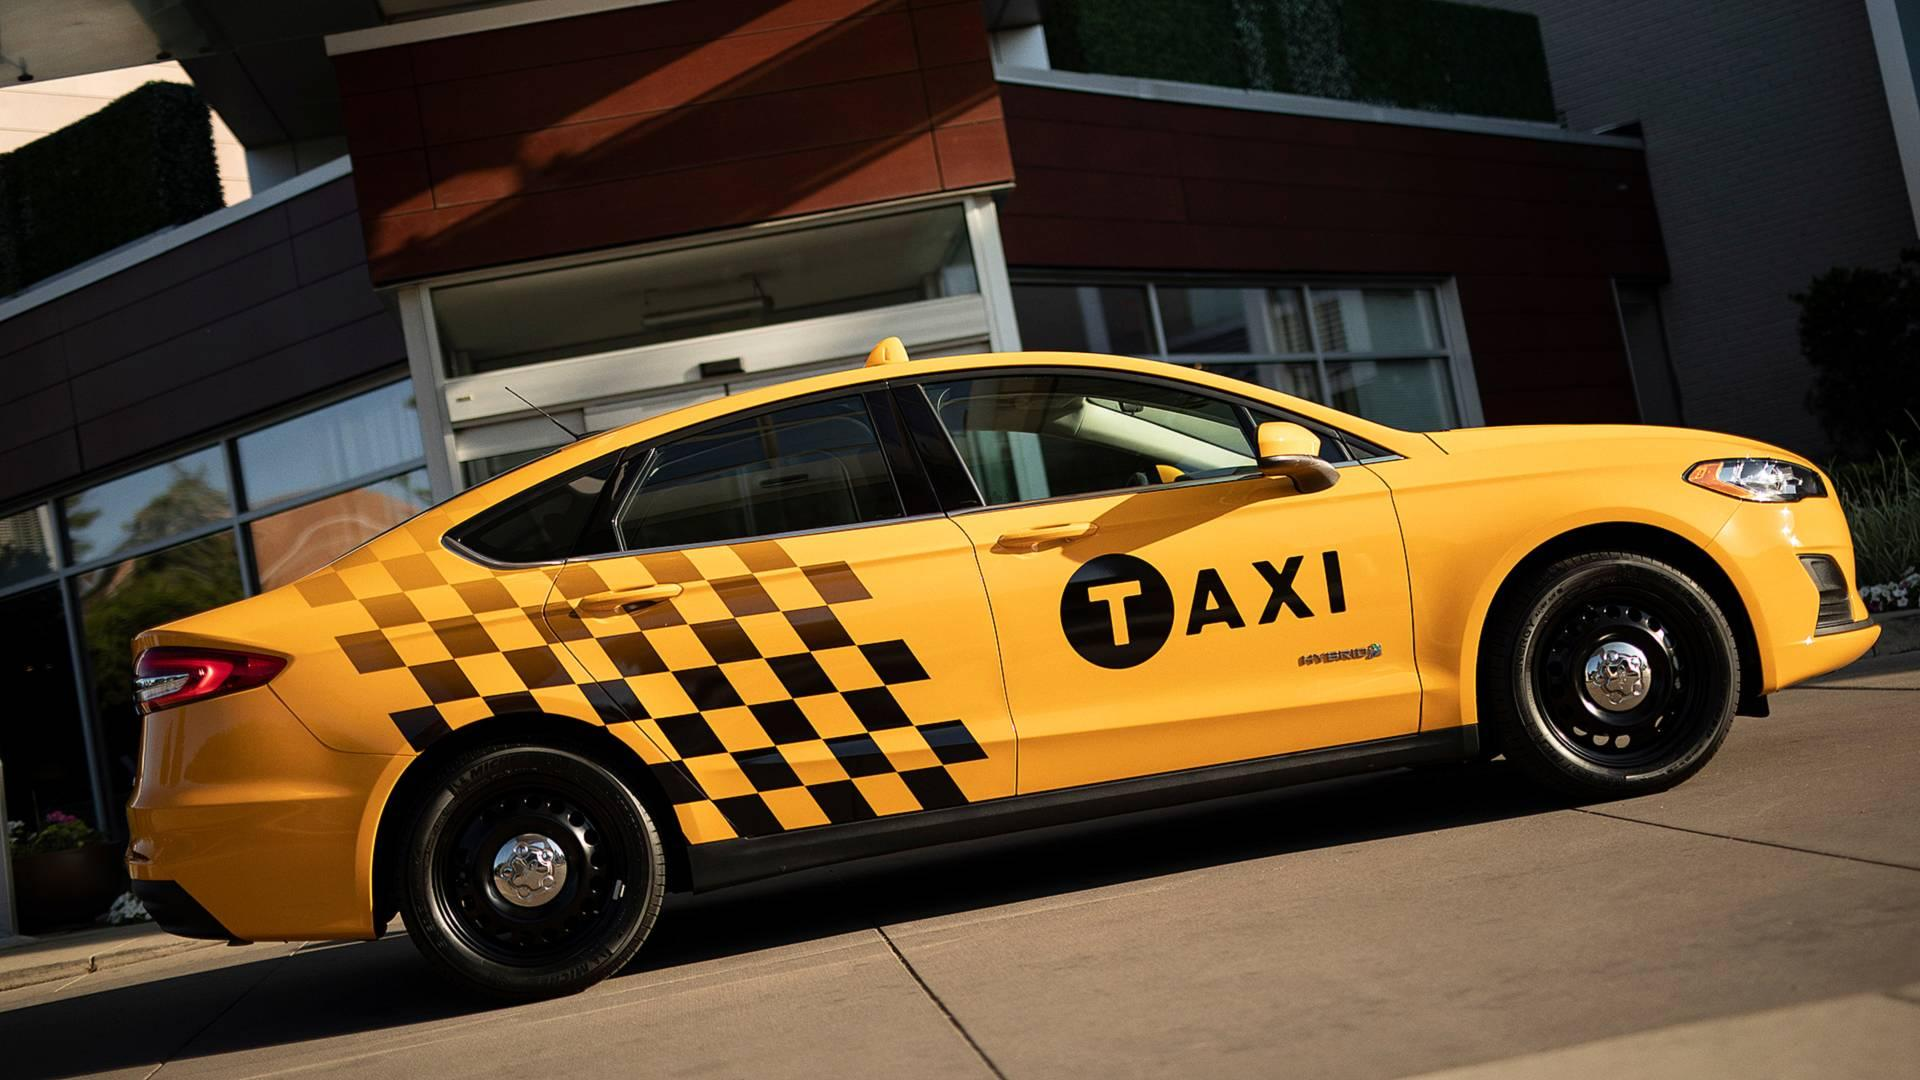taxi: (75, 327, 1920, 947)
